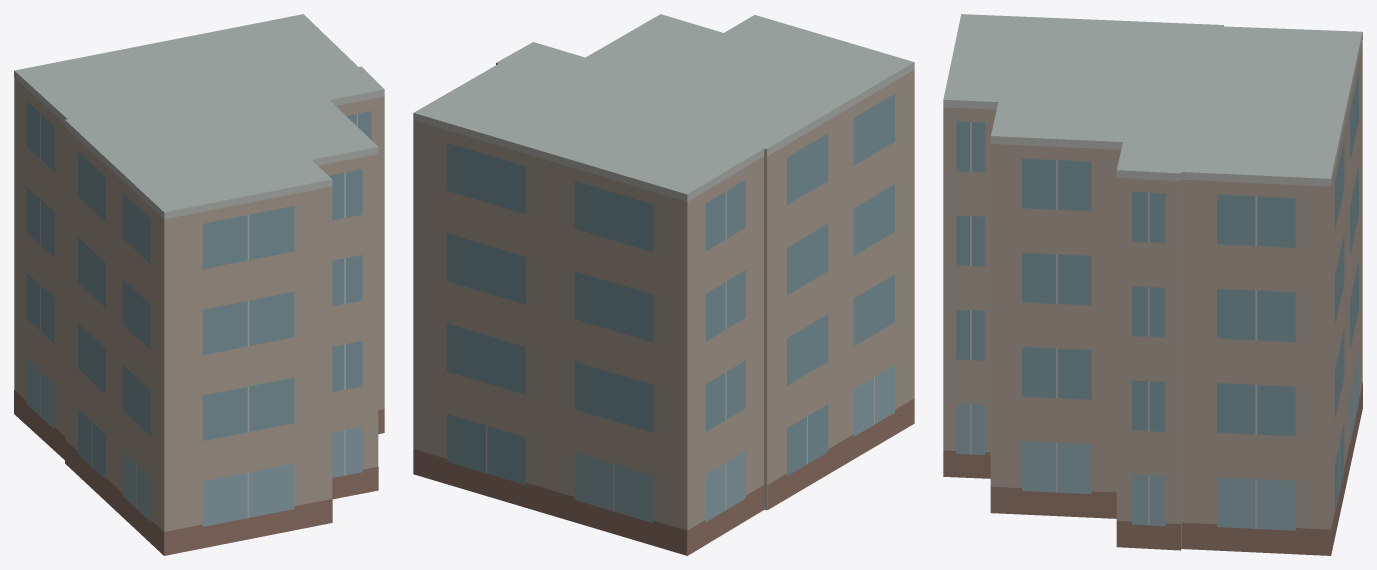
The model's file is survey-upis-32657305.glb.
3 renders of one model, left to right at view 1: azimuth 30°, elevation 25°; view 2: azimuth 150°, elevation 25°; view 3: azimuth 270°, elevation 25°, orthographic. The views are drawn at different scales.
Parts seen in each view (by area): view 1: survey-upis-32657305.tmp; view 2: survey-upis-32657305.tmp; view 3: survey-upis-32657305.tmp.
Boxes of the visible parts, <box> form: survey-upis-32657305.tmp: <box>14,14,384,555</box>; survey-upis-32657305.tmp: <box>413,14,914,555</box>; survey-upis-32657305.tmp: <box>943,14,1362,555</box>.
Bounding box in the file's own units: 11.12 × 11.85 × 11.96.
